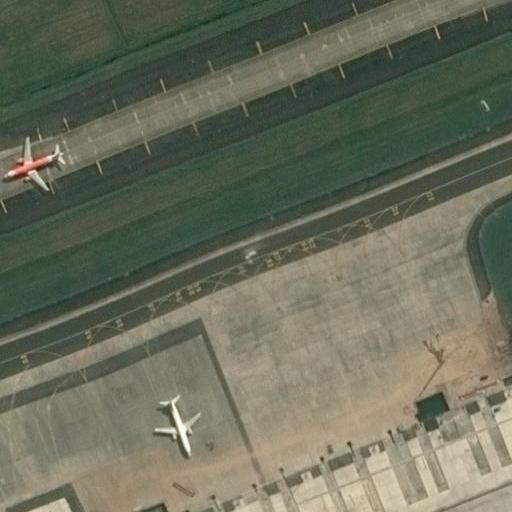Aircraft: (148, 391, 203, 458), (3, 133, 66, 190)
